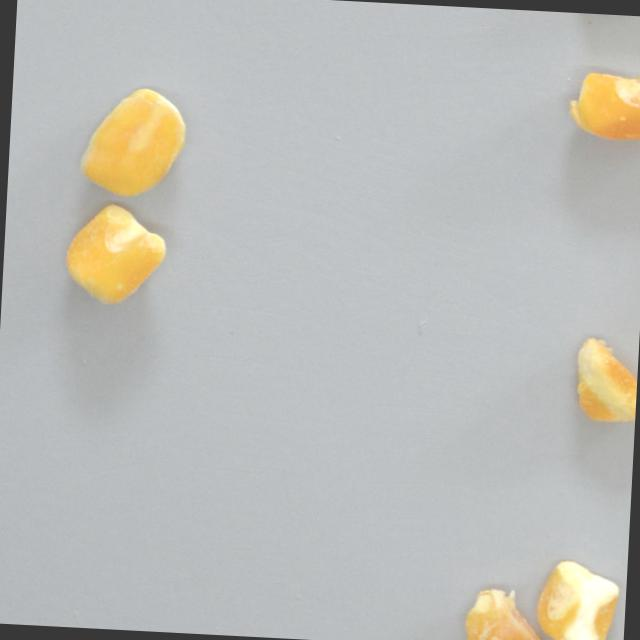estandar: (566, 71, 640, 143)
no_canjicado: (78, 86, 189, 202), (62, 202, 169, 309), (536, 561, 622, 640)
pelicula: (572, 337, 639, 424), (462, 580, 559, 640)
